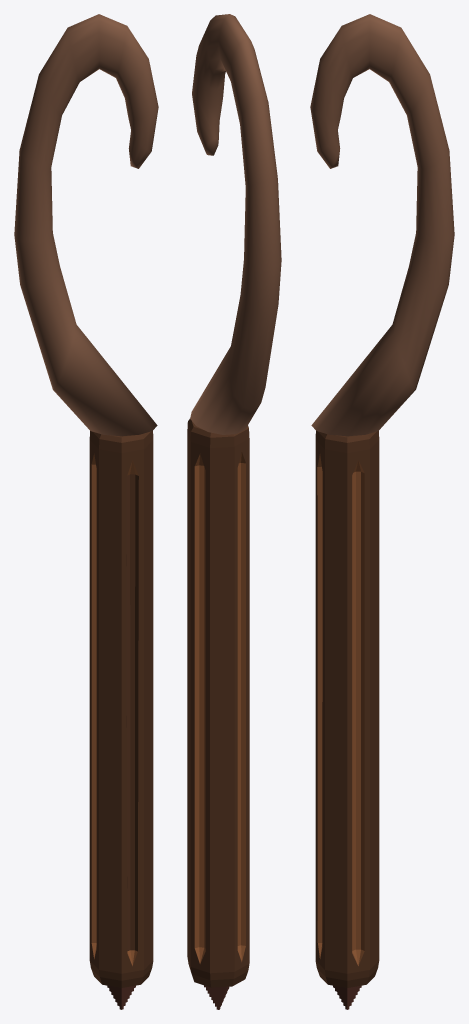
Rendered from Wand 584.glb.
The picture shows the model from 3 angles, left to right: view 1: azimuth 90°, elevation 25°; view 2: azimuth 210°, elevation 25°; view 3: azimuth 270°, elevation 25°; orthographic projection.
Parts seen in each view (by area): view 1: GeneratedWand; view 2: GeneratedWand; view 3: GeneratedWand.
Part boxes in pixels (x1,y1,x2,y2): GeneratedWand: (14, 14, 158, 1009); GeneratedWand: (187, 14, 281, 1009); GeneratedWand: (310, 14, 454, 1009).
Bounding box in the file's own units: 0.0289 × 0.4975 × 0.0654.
